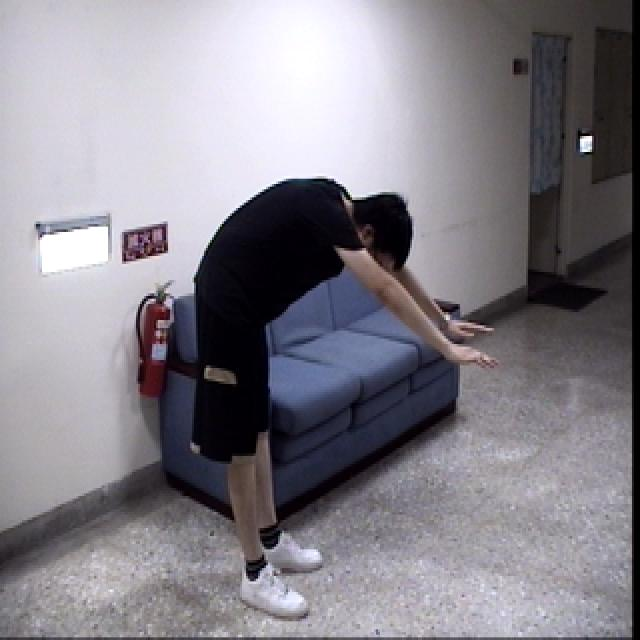bend: (191, 168, 500, 622)
